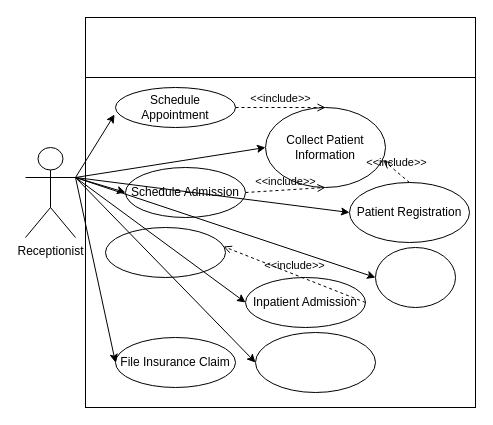
Image size: 493x425. Some labels were removed from this diagram. Each missing label, with the box of its shape:
Assign Bed: (104, 226, 226, 278)
File Medical Report: (254, 332, 376, 392)
Outpatient Admission: (374, 246, 456, 308)
UC : Hospital reception system: (84, 16, 476, 78)
